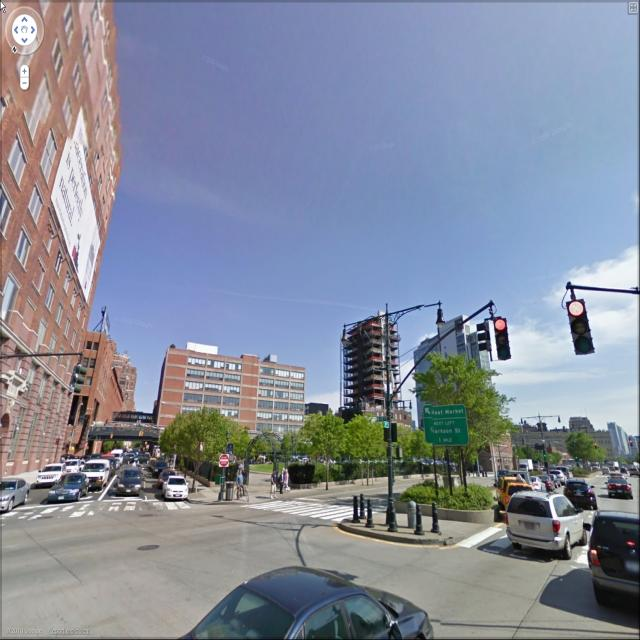b_1: (0, 1, 78, 452), (136, 337, 327, 432), (336, 311, 404, 424), (78, 326, 137, 435), (608, 415, 638, 463)
b_2: (415, 305, 500, 446)
